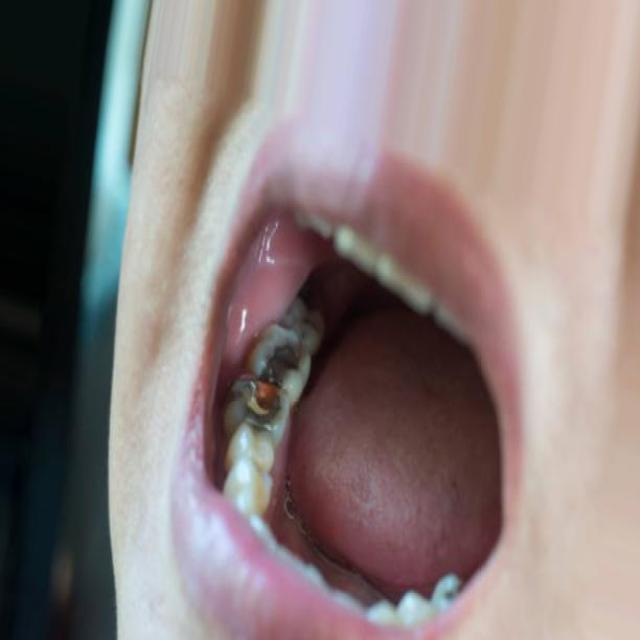caries: (223, 368, 297, 447), (250, 318, 312, 394)
